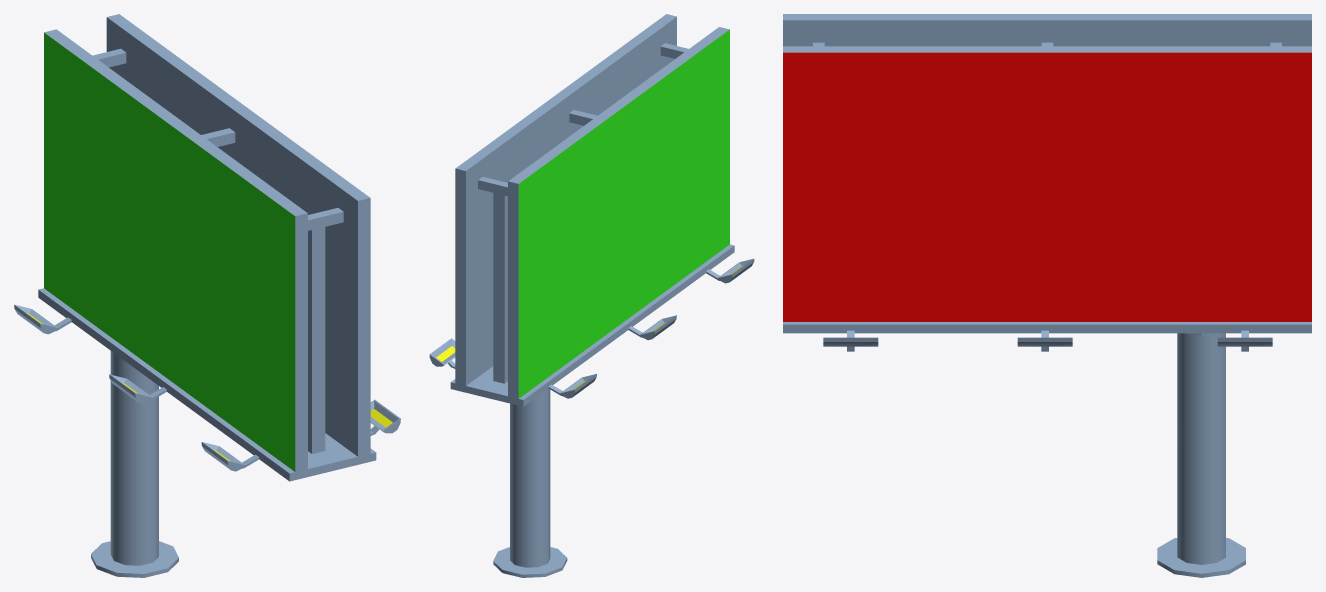
Rendered from big billboard.FBX.
3 views of the same model, side by side, from view 1: azimuth 30°, elevation 25°; view 2: azimuth 150°, elevation 25°; view 3: azimuth 270°, elevation 25° (orthographic). The views are drawn at different scales.
Visible parts, largest first — view 1: Object001, Box001, Cylinder001, Box009, Box006, Box007, Box005; view 2: Object001, Box001, Cylinder001, Box010, Box007, Box006, Box005; view 3: Object002, Box001, Cylinder001.
Part boxes in pixels (box(x1,y1,x2,y2)): Object001: box(44, 32, 295, 471); Box001: box(38, 14, 376, 481); Cylinder001: box(91, 351, 178, 577); Box009: box(370, 399, 400, 435); Box006: box(109, 374, 166, 403); Box007: box(201, 442, 259, 471); Box005: box(14, 304, 71, 334); Object001: box(518, 29, 729, 398); Box001: box(450, 14, 734, 406); Cylinder001: box(493, 388, 567, 577); Box010: box(429, 338, 455, 368); Box007: box(706, 258, 754, 283); Box006: box(628, 315, 676, 340); Box005: box(548, 374, 596, 398); Object002: box(783, 52, 1311, 321); Box001: box(783, 14, 1311, 333); Cylinder001: box(1157, 333, 1245, 577).
Size of the model in its own units: 41.87 by 115 by 105.
